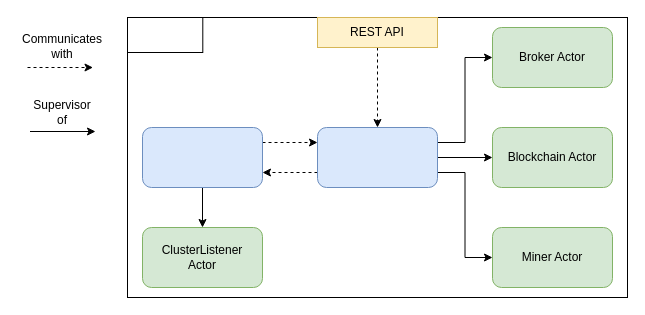
The diagram is 645 pixels wide and 315 high, and some of its shapes have lost their labels. Each missing label, with the centre of its shape:
ClusterManager Actor: [202,157]
Node Actor: [377,157]
Scalachain Node: [164,34]
